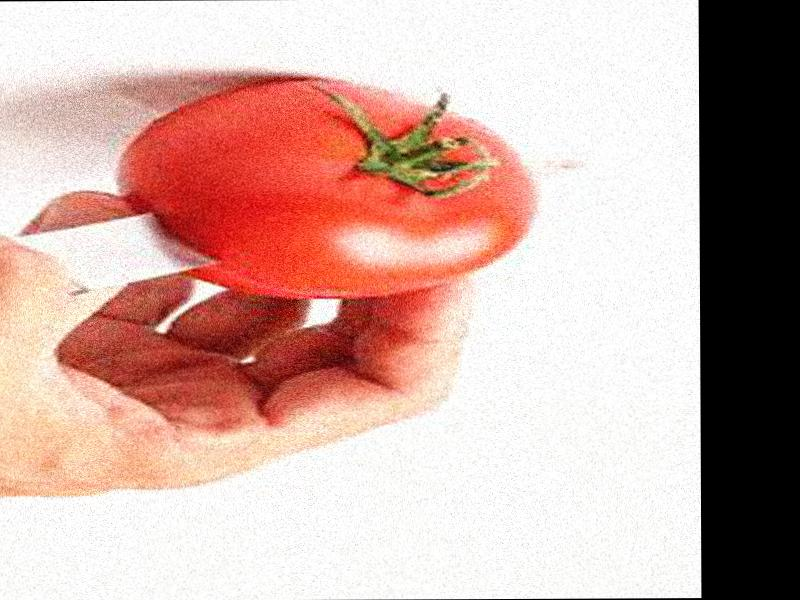Tomato: (118, 79, 530, 301)
